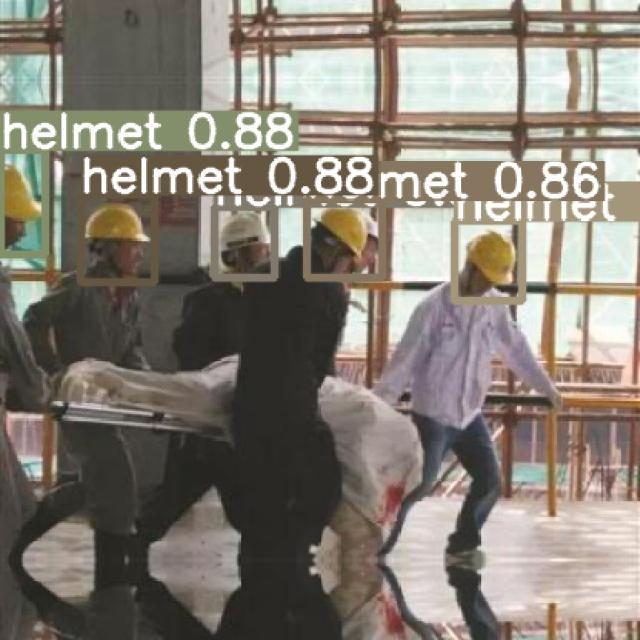white helmet: (217, 213, 275, 256), (367, 209, 385, 250)
yellow helmet: (464, 227, 516, 289), (85, 202, 152, 245), (317, 207, 366, 262), (3, 161, 45, 223)
